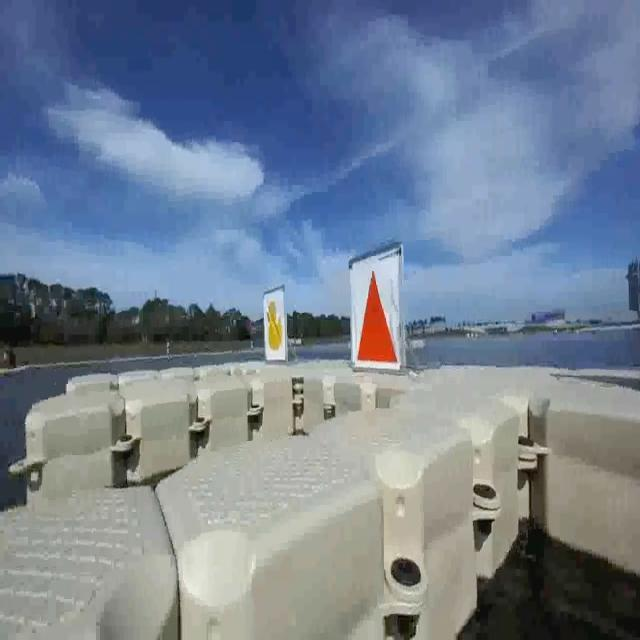red-dot: (351, 262, 402, 364)
yellow-duck: (257, 290, 285, 364)
